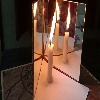fire: (49, 9, 57, 47)
